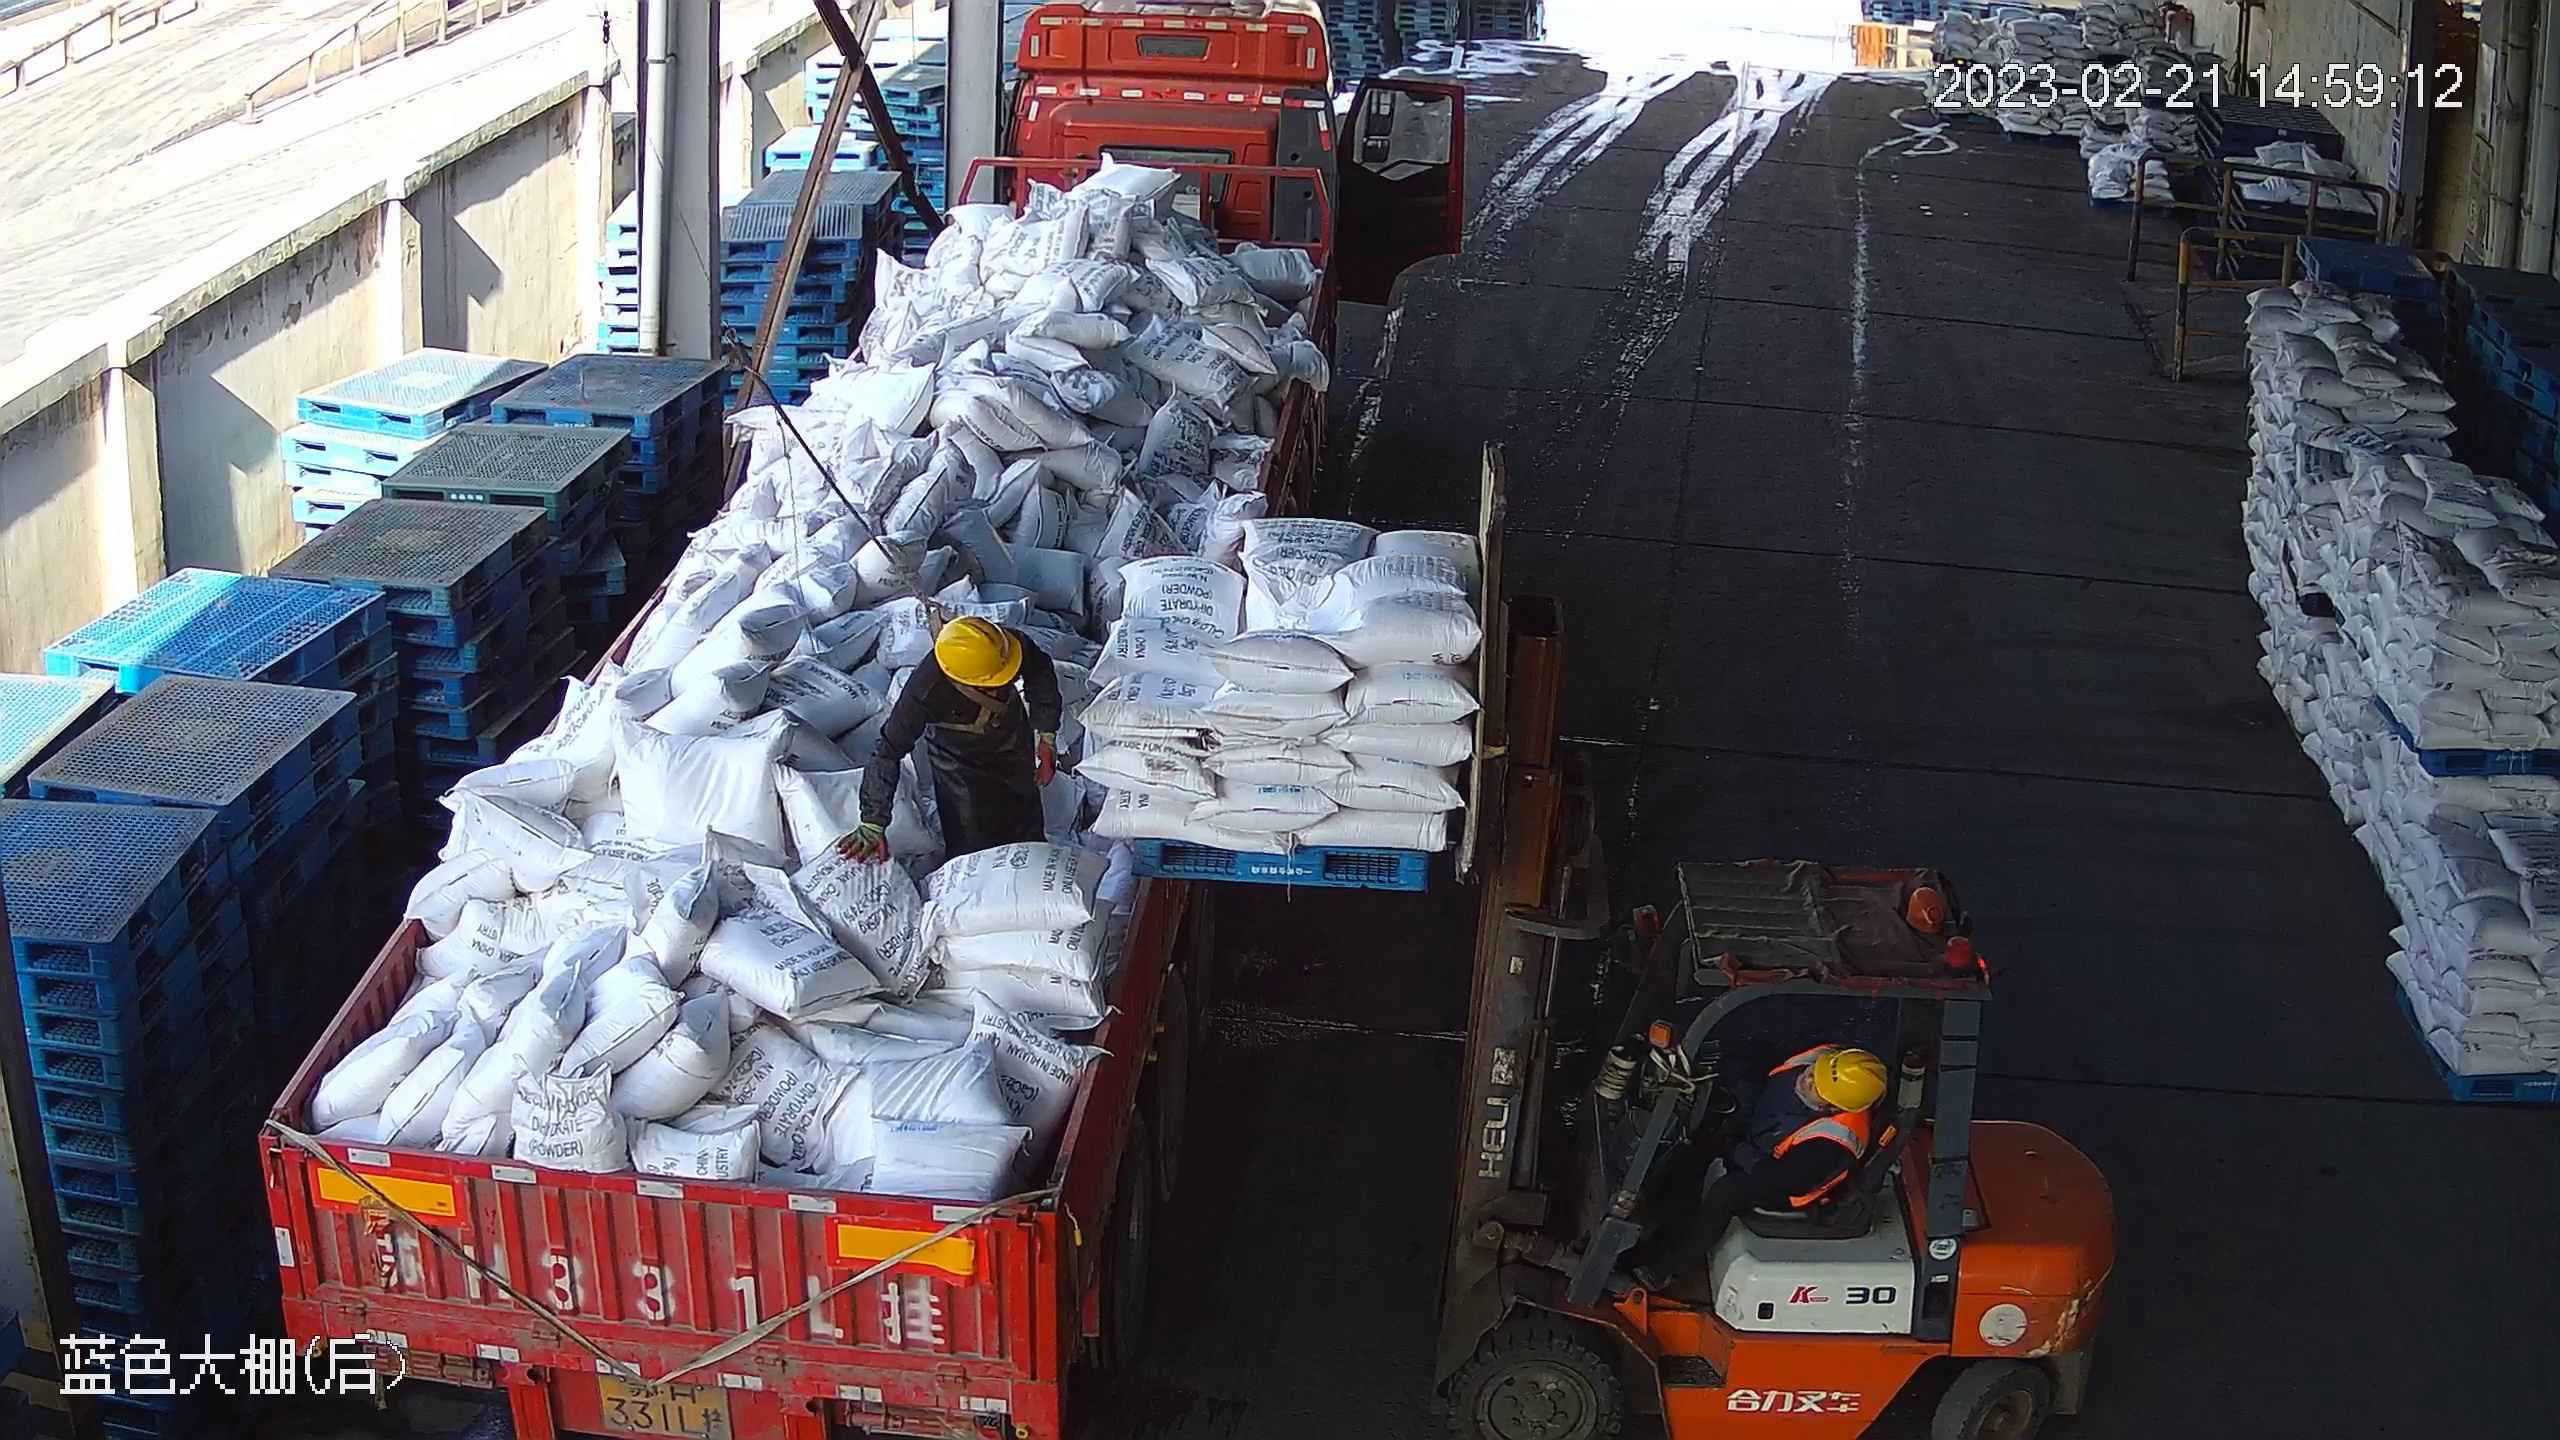belt: (947, 683, 1032, 730)
head: (901, 611, 1047, 737), (1754, 1042, 1891, 1164)
helmet: (934, 617, 1027, 689), (1813, 1045, 1883, 1113)
people: (1645, 1023, 1893, 1289), (837, 613, 1067, 854)
truck: (244, 10, 1471, 1439)
